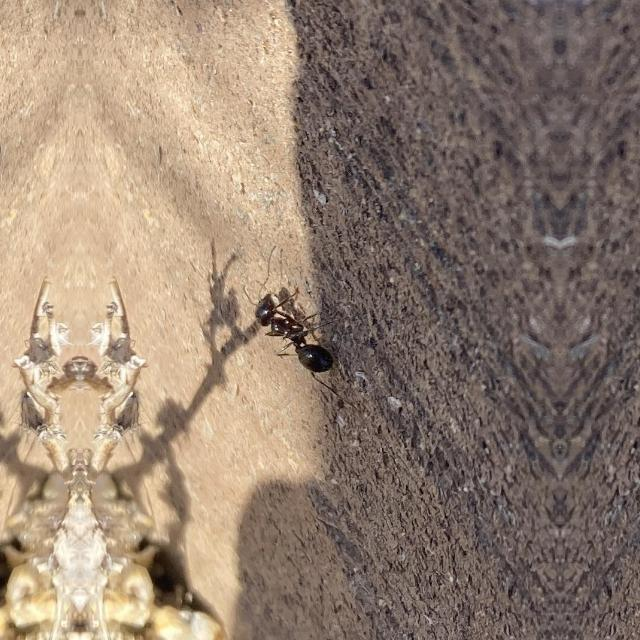Messor: (244, 296, 336, 386)
